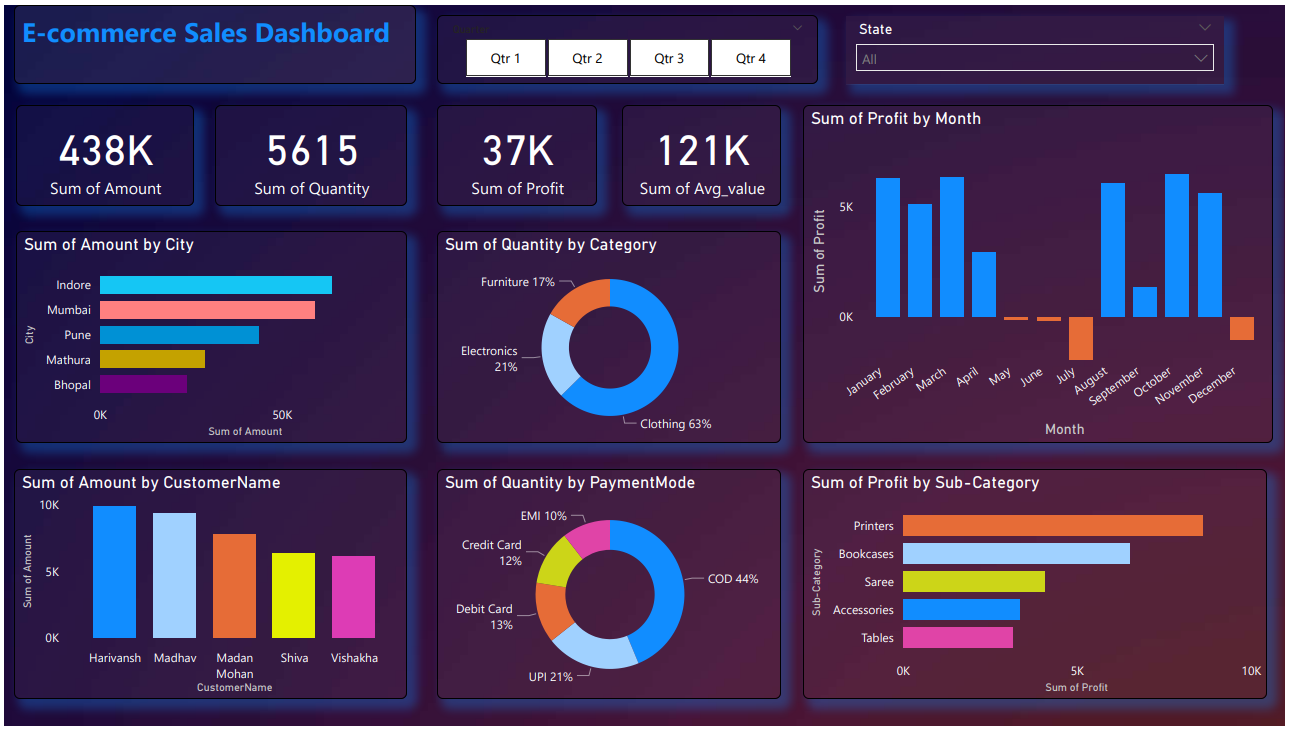

Layout of this report page (visuals, bound fields, positions):
{"tool":"powerbi","page":{"name":"Page 1","canvas":[1280,720],"ordinal":0},"visuals":[{"type":"textbox","box":[9.6,0,402.1,78.5],"z":0},{"type":"columnChart","fields":{"Y":["Sum(Details.Profit)"],"Category":["Orders.Order Date.Variation.Date Hierarchy.Month"]},"box":[799.4,99.6,470.1,338],"z":1000},{"type":"barChart","title":"Sum of Profit by Sub-Category","fields":{"Y":["Sum(Details.Profit)"],"Category":["Details.Sub-Category"],"Series":["Details.Sub-Category"]},"box":[799.4,464.3,463.4,229.8],"z":2000},{"type":"donutChart","fields":{"Y":["Sum(Details.Quantity)"],"Category":["Details.Category"]},"box":[432.7,225.9,344.7,211.6],"z":3000},{"type":"donutChart","fields":{"Y":["Sum(Details.Quantity)"],"Category":["Details.PaymentMode"]},"box":[432.7,464.3,344.7,229.8],"z":4000},{"type":"card","fields":{"Values":["Sum(Details.Amount)"]},"box":[12.4,99.6,177.1,101.5],"z":5000},{"type":"card","fields":{"Values":["Sum(Details.Quantity)"]},"box":[210.6,99.6,192.4,101.5],"z":6000},{"type":"card","fields":{"Values":["Sum(Details.Profit)"]},"box":[432.7,99.6,159.9,101.5],"z":7000},{"type":"card","fields":{"Values":["Sum(Details.Avg_value)"]},"box":[617.5,99.6,159.9,101.5],"z":8000},{"type":"barChart","title":"Sum of  Amount by City","fields":{"Y":["Sum(Details.Amount)"],"Category":["Orders.City"],"Series":["Orders.City"]},"box":[12.4,225.9,390.6,211.6],"z":9000},{"type":"columnChart","title":"Sum of Amount by CustomerName","fields":{"Y":["Sum(Details.Amount)"],"Category":["Orders.CustomerName"],"Series":["Orders.CustomerName"]},"box":[9.6,464.3,393.5,229.8],"z":10000},{"type":"slicer","fields":{"Values":["Orders.Order Date.Variation.Date Hierarchy.Quarter"]},"box":[432.7,9.6,381,68.9],"z":11000},{"type":"slicer","fields":{"Values":["Orders.State"]},"box":[842.5,10.5,377.2,68.9],"z":12000}]}

Visuals, with their boxes in screenshot pixels (x1, y1, x2, y2), scaled from the page's 1280x720 canvas onto the 1292x730 screenshot:
textbox: bbox(10, 0, 416, 80)
columnChart - Sum(Details.Profit) x Orders.Order Date.Variation.Date Hierarchy.Month: bbox(807, 101, 1281, 444)
"Sum of Profit by Sub-Category" barChart: bbox(807, 471, 1275, 704)
donutChart - Sum(Details.Quantity) x Details.Category: bbox(437, 229, 785, 444)
donutChart - Sum(Details.Quantity) x Details.PaymentMode: bbox(437, 471, 785, 704)
card - Sum(Details.Amount): bbox(13, 101, 191, 204)
card - Sum(Details.Quantity): bbox(213, 101, 407, 204)
card - Sum(Details.Profit): bbox(437, 101, 598, 204)
card - Sum(Details.Avg_value): bbox(623, 101, 785, 204)
"Sum of  Amount by City" barChart: bbox(13, 229, 407, 444)
"Sum of Amount by CustomerName" columnChart: bbox(10, 471, 407, 704)
slicer - Orders.Order Date.Variation.Date Hierarchy.Quarter: bbox(437, 10, 821, 80)
slicer - Orders.State: bbox(850, 11, 1231, 81)
